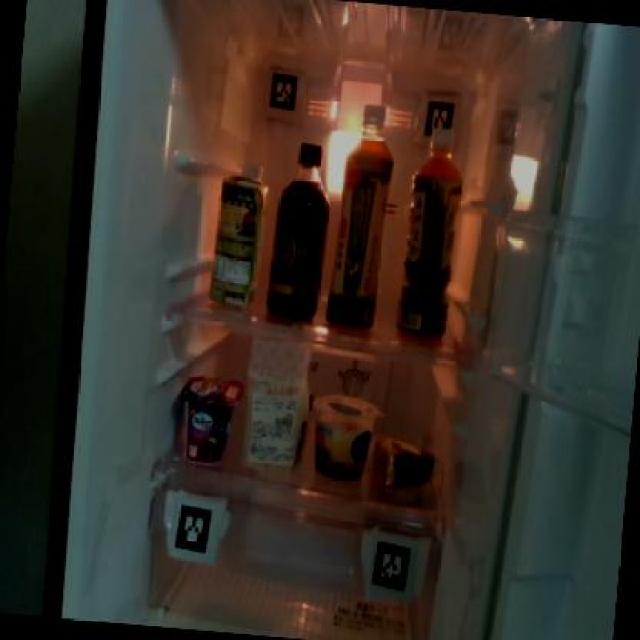coffee: (264, 139, 334, 321)
pudding: (304, 390, 378, 481)
rice_ball: (370, 433, 438, 499)
sandwich: (238, 332, 316, 476)
smoothie: (207, 158, 267, 308)
tea_a: (391, 132, 463, 339)
tea_i: (322, 101, 400, 333)
yogurt: (174, 372, 241, 468)
